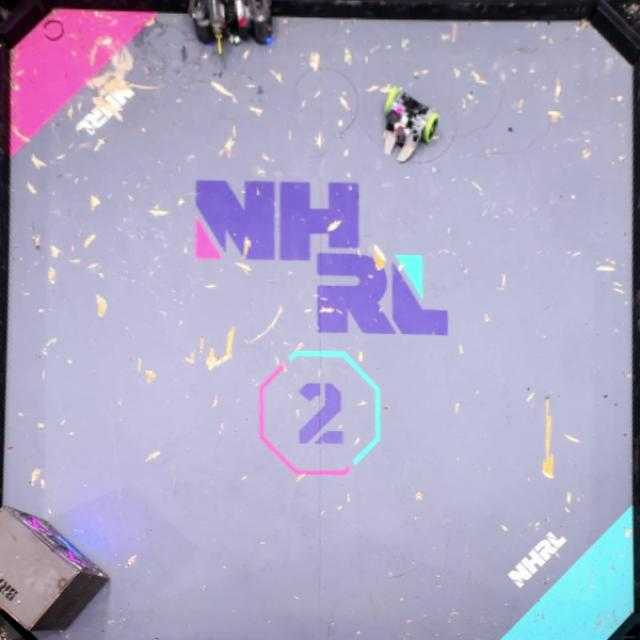housebot: (0, 502, 109, 632)
robot: (187, 0, 274, 55), (381, 85, 440, 164)
